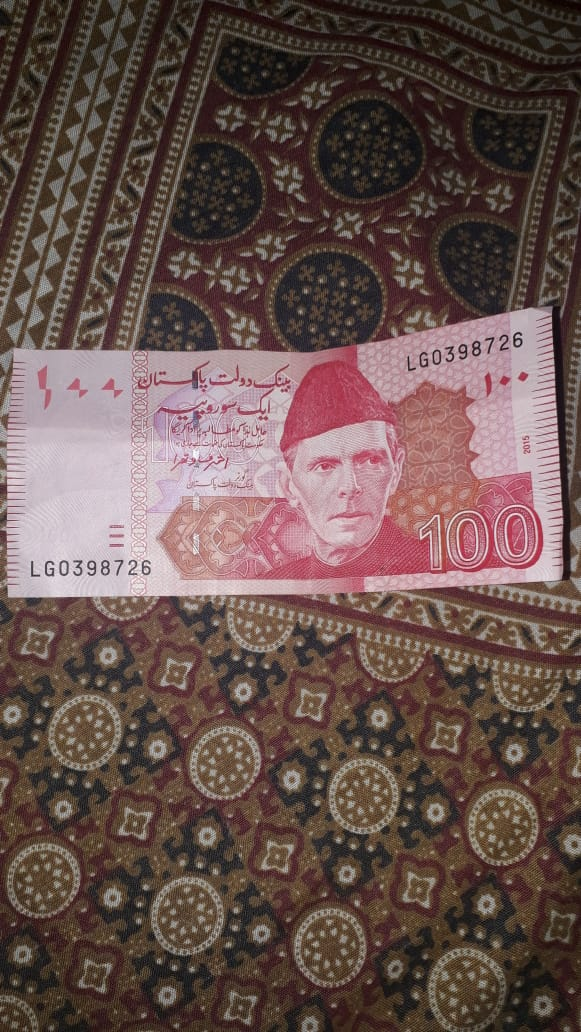100 rupee: (5, 305, 567, 599)
